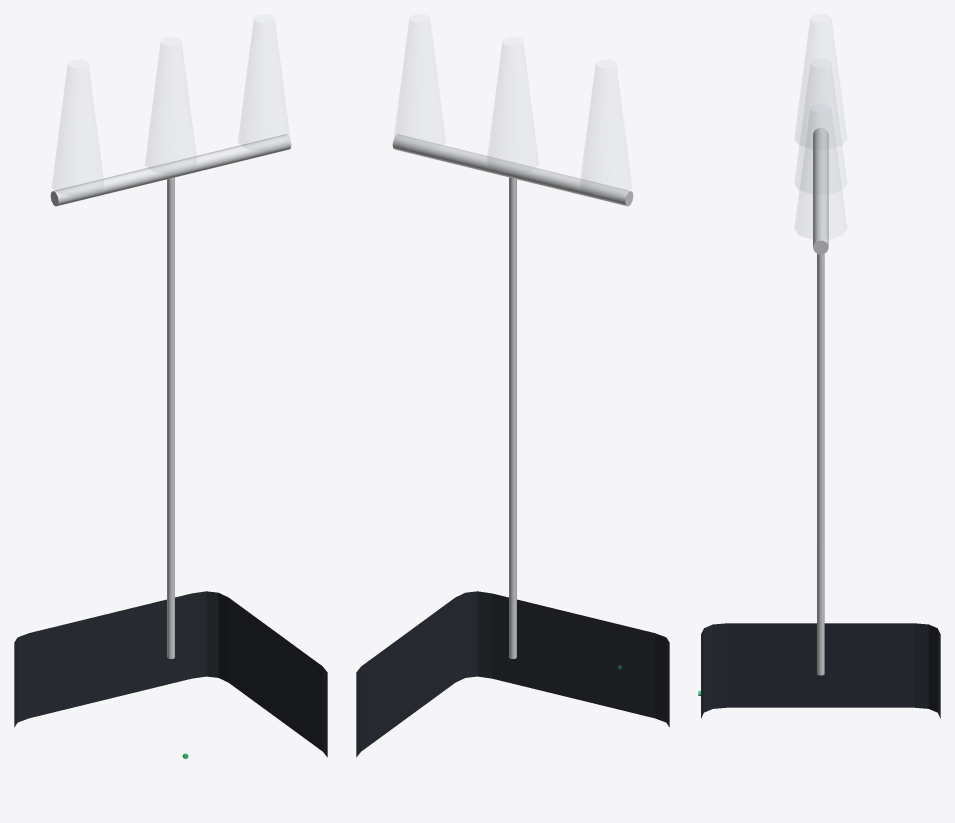
Rendered from mister-clone.glb.
3 views of the same model, side by side, from view 1: azimuth 30°, elevation 25°; view 2: azimuth 150°, elevation 25°; view 3: azimuth 270°, elevation 25° (orthographic).
Parts seen in each view (by area): view 1: mister_base, mister_bar, mister_tube; view 2: mister_base, mister_bar, mister_tube; view 3: mister_base, mister_tube, mister_bar.
Boxes of the visible parts, <box> form: mister_base: <box>14,591,327,757</box>; mister_bar: <box>50,134,291,206</box>; mister_tube: <box>167,177,174,658</box>; mister_base: <box>356,591,669,757</box>; mister_bar: <box>392,134,633,206</box>; mister_tube: <box>509,177,516,658</box>; mister_base: <box>701,623,940,718</box>; mister_tube: <box>817,253,824,675</box>; mister_bar: <box>813,128,828,254</box>.
Bounding box in the file's own units: 0.2 × 0.576 × 0.182.
